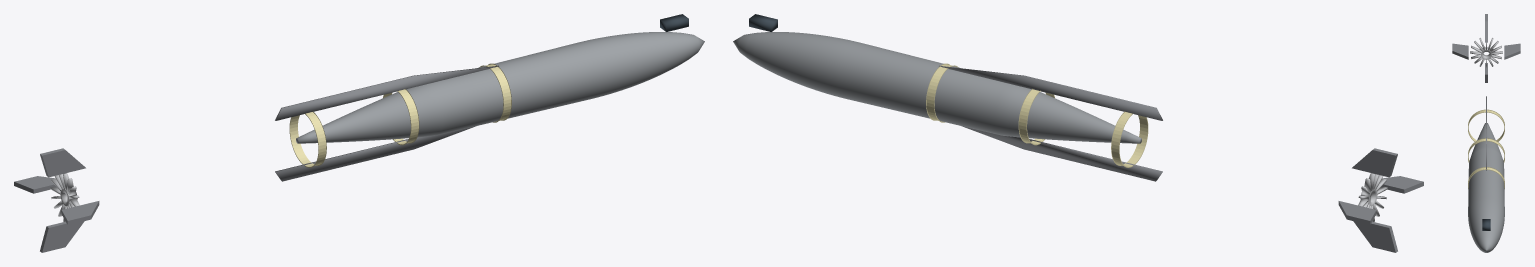
Rendered from RU_TORP_5365M_LOD0.fbx.
3 views of the same model, side by side, from view 1: azimuth 30°, elevation 25°; view 2: azimuth 150°, elevation 25°; view 3: azimuth 270°, elevation 25° (orthographic). The views are drawn at different scales.
Parts seen in each view (by area): view 1: WPN_RU_TORP_5365M_LOD0_Body, WPN_RU_TORP_5365M_LOD0_Detail, WPN_RU_TORP_5365M_LOD0_Fins, WPN_RU_TORP_5365M_LOD0_Marking, WPN_RU_TORP_5365M_LOD0_Propulsor, WPN_RU_TORP_5365M_LOD0_Seeker; view 2: WPN_RU_TORP_5365M_LOD0_Body, WPN_RU_TORP_5365M_LOD0_Detail, WPN_RU_TORP_5365M_LOD0_Fins, WPN_RU_TORP_5365M_LOD0_Marking, WPN_RU_TORP_5365M_LOD0_Propulsor, WPN_RU_TORP_5365M_LOD0_Seeker; view 3: WPN_RU_TORP_5365M_LOD0_Body, WPN_RU_TORP_5365M_LOD0_Fins, WPN_RU_TORP_5365M_LOD0_Marking, WPN_RU_TORP_5365M_LOD0_Propulsor, WPN_RU_TORP_5365M_LOD0_Seeker, WPN_RU_TORP_5365M_LOD0_Detail.
Part boxes in pixels (box(x1,y1,x2,y2)): WPN_RU_TORP_5365M_LOD0_Body: box(296, 32, 704, 143); WPN_RU_TORP_5365M_LOD0_Detail: box(275, 65, 498, 181); WPN_RU_TORP_5365M_LOD0_Fins: box(14, 148, 99, 252); WPN_RU_TORP_5365M_LOD0_Marking: box(289, 63, 511, 167); WPN_RU_TORP_5365M_LOD0_Propulsor: box(50, 173, 79, 221); WPN_RU_TORP_5365M_LOD0_Seeker: box(660, 14, 688, 31); WPN_RU_TORP_5365M_LOD0_Body: box(733, 32, 1141, 143); WPN_RU_TORP_5365M_LOD0_Detail: box(939, 65, 1162, 181); WPN_RU_TORP_5365M_LOD0_Fins: box(1338, 148, 1423, 252); WPN_RU_TORP_5365M_LOD0_Marking: box(926, 63, 1148, 167); WPN_RU_TORP_5365M_LOD0_Propulsor: box(1358, 173, 1387, 221); WPN_RU_TORP_5365M_LOD0_Seeker: box(749, 14, 777, 31); WPN_RU_TORP_5365M_LOD0_Body: box(1468, 123, 1504, 252); WPN_RU_TORP_5365M_LOD0_Fins: box(1452, 14, 1520, 82); WPN_RU_TORP_5365M_LOD0_Marking: box(1468, 109, 1504, 188); WPN_RU_TORP_5365M_LOD0_Propulsor: box(1470, 38, 1502, 67); WPN_RU_TORP_5365M_LOD0_Seeker: box(1482, 219, 1490, 230); WPN_RU_TORP_5365M_LOD0_Detail: box(1486, 96, 1486, 170).
Bounding box in the file's own units: 7.03 × 0.9849 × 0.9849.
